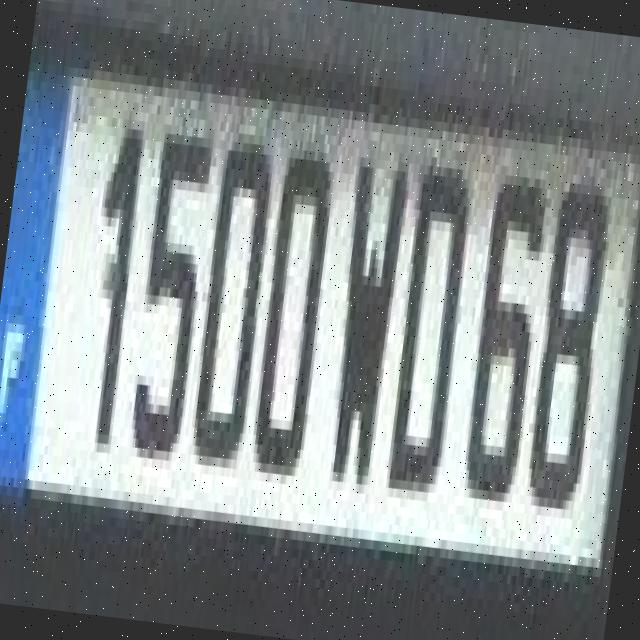EU: (0, 65, 640, 563)
France: (0, 65, 74, 489)
